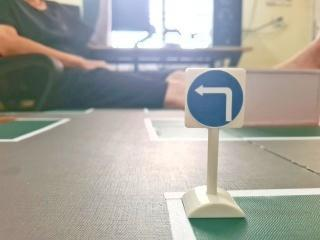left: (185, 69, 249, 129)
